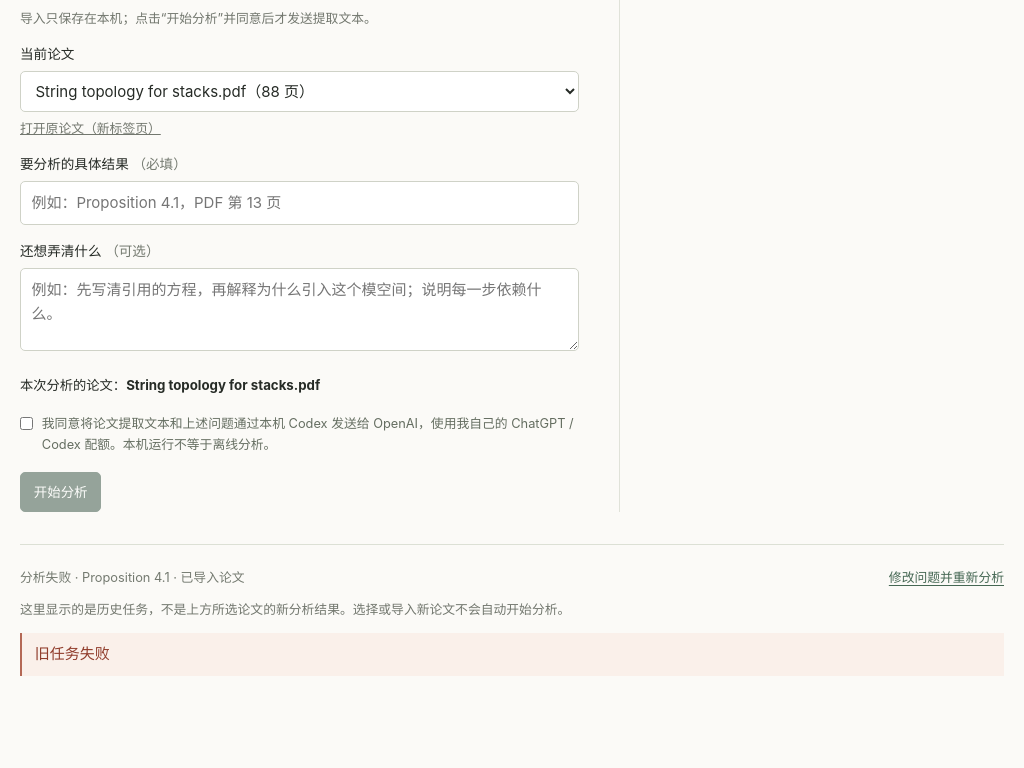
Test case: LocalReader › 重试已丢失论文的历史任务不会回退到另一篇论文
The image size is (1024, 768).
(page scrolled)
expect the text "旧任务失败" is shown: met, box [20,632,1004,676]
expect the dropdown labelled "当前论文" shows "String topology for stacks.pdf（88 页）": met, box [20,71,579,112]
Click the button "修改问题并重新分析". click: (946, 578)
box: [889,567,1004,588]
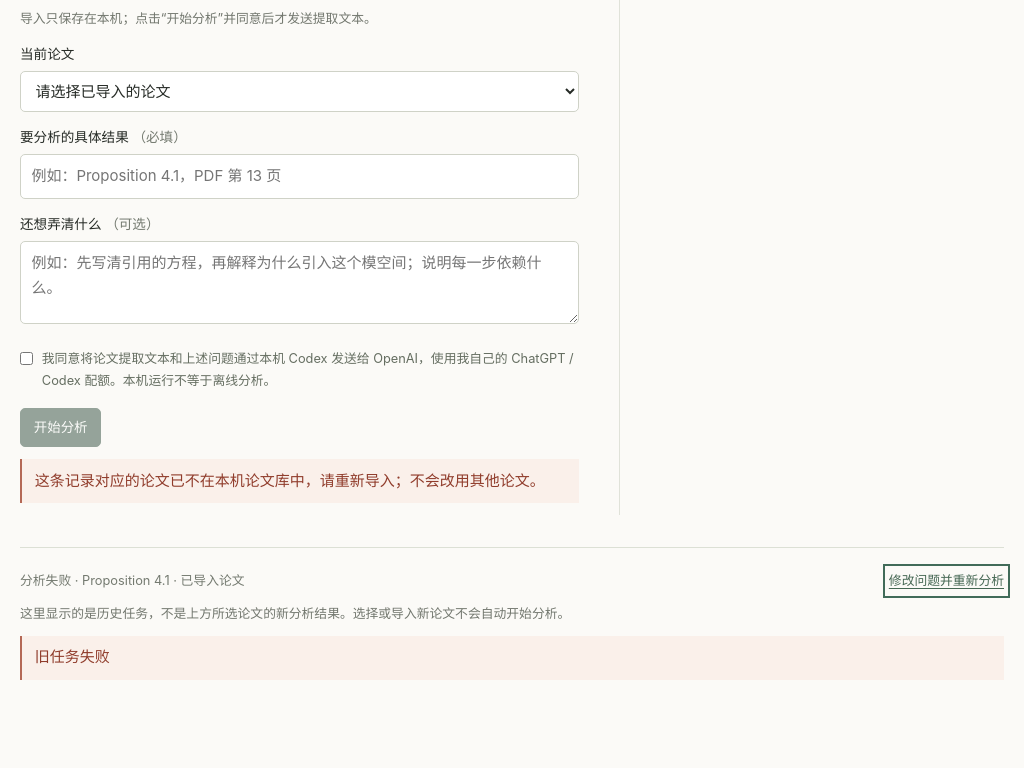
expect the checkbox is not checked: met, box [20,352,33,365]
expect the dropdown labelled "当前论文" shows "请选择已导入的论文": met, box [20,71,579,112]
expect the message "这条记录对应的论文已不在本机论文库中，请重新导入；不会改用其他论文。" is shown: met, box [20,459,579,503]
